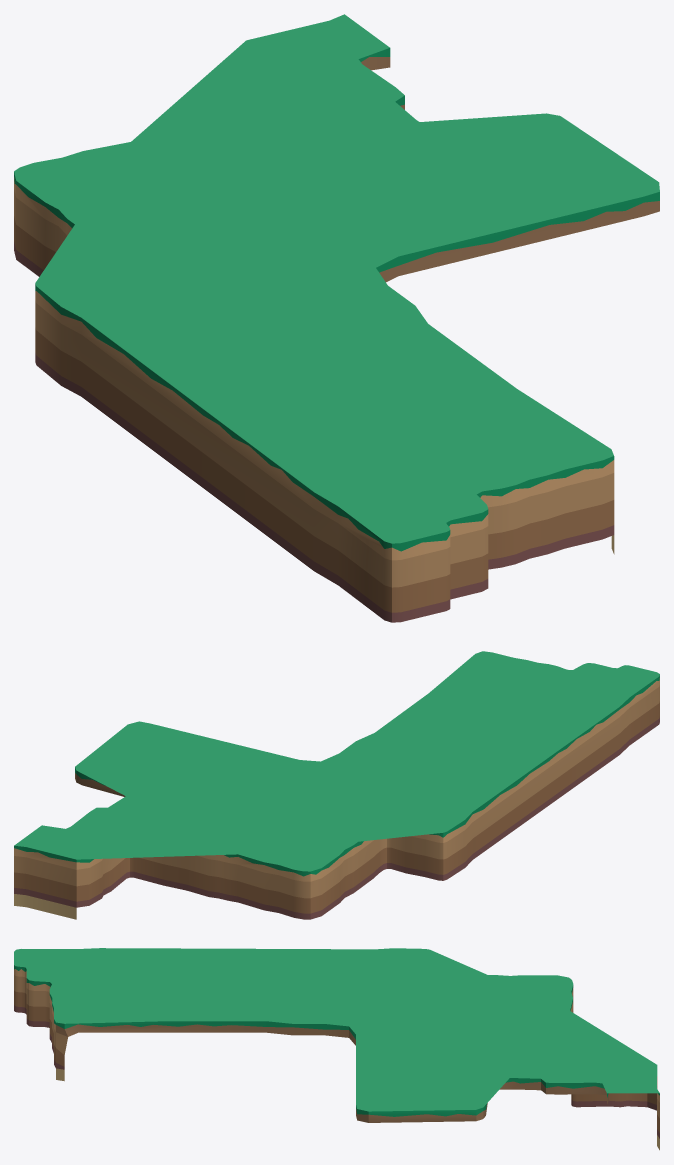
File: MainLand1.fbx
3 renders of one model, top to bottom at view 1: azimuth 30°, elevation 25°; view 2: azimuth 150°, elevation 25°; view 3: azimuth 270°, elevation 25°, orthographic. The views are drawn at different scales.
Parts seen in each view (by area): view 1: Plane.102; view 2: Plane.102; view 3: Plane.102.
Part boxes in pixels (box(x1,y1,x2,y2)): Plane.102: box(14, 14, 659, 622); Plane.102: box(14, 651, 659, 919); Plane.102: box(14, 948, 659, 1150).
Bounding box in the file's own units: 3053 × 500 × 5100.
